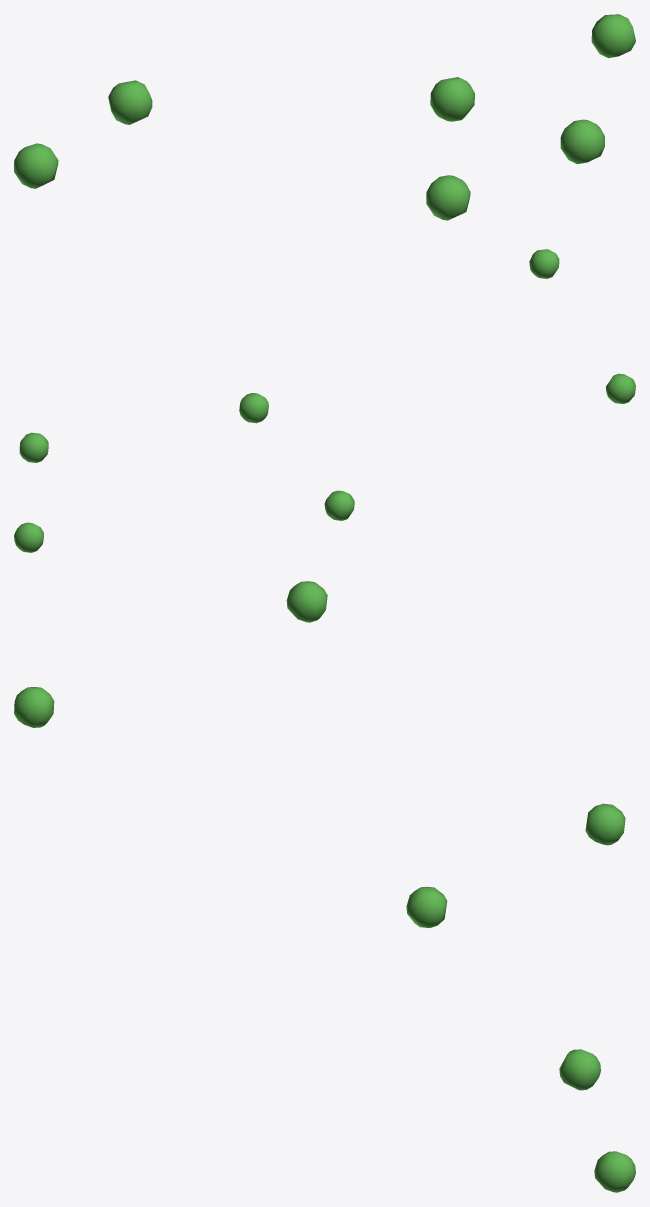
File: linfatico-inferior-diaphragmatic-nodes.glb
3 views of the same model, one above another, from view 1: azimuth 30°, elevation 25°; view 2: azimuth 150°, elevation 25°; view 3: azimuth 270°, elevation 25° (orthographic). The views are drawn at different scales.
Parts seen in each view (by area): view 1: Inferior diaphragmatic nodes; view 2: Inferior diaphragmatic nodes; view 3: Inferior diaphragmatic nodes.
Boxes of the visible parts, x1=… form: Inferior diaphragmatic nodes: x1=14, y1=14, x2=635, y2=220; Inferior diaphragmatic nodes: x1=14, y1=249, x2=635, y2=552; Inferior diaphragmatic nodes: x1=14, y1=581, x2=635, y2=1192.
Bounding box in the file's own units: 0.0499 × 0.0204 × 0.0383.
